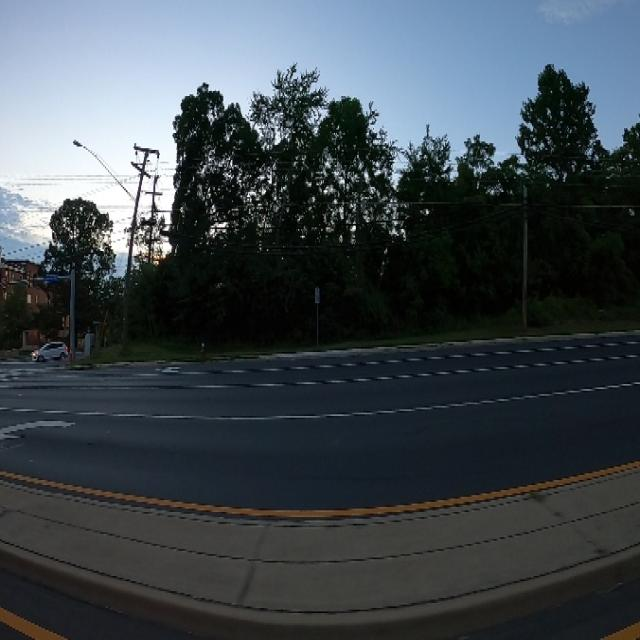cars: (28, 333, 73, 369)
